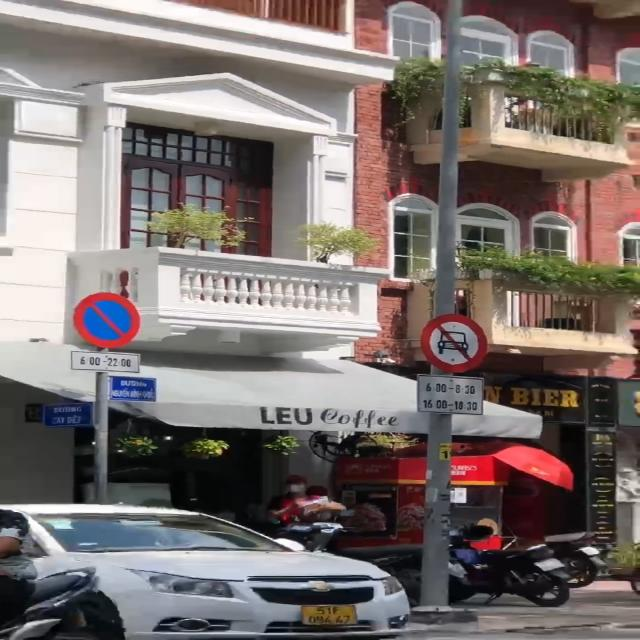Bien bao cam do xe: (70, 288, 148, 351)
Bien bao cam xe oto: (412, 308, 495, 375)
